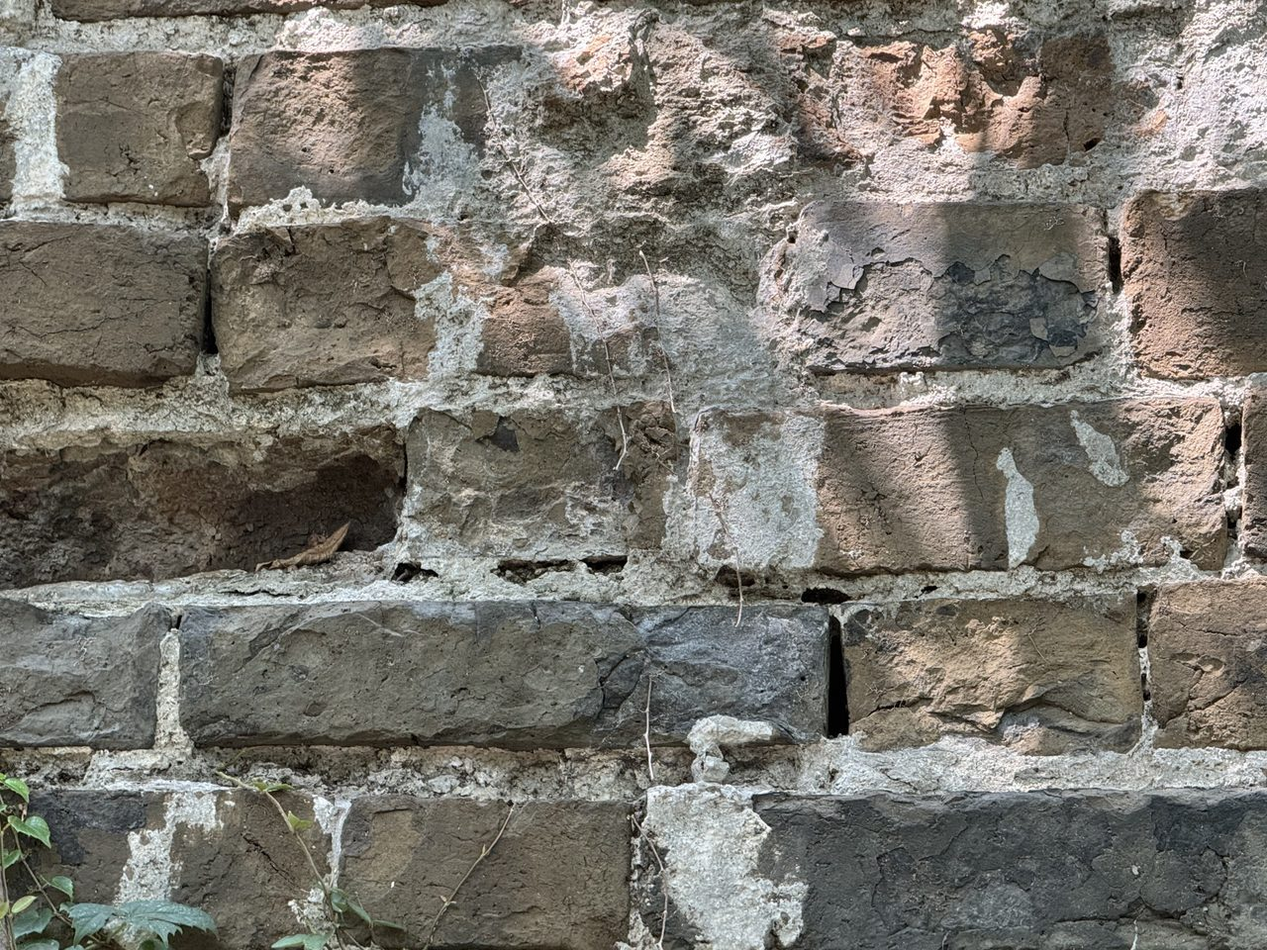brick_loss: (225, 424, 423, 590)
deadmood: (418, 799, 582, 950)
vegetation: (1, 768, 190, 950), (242, 775, 375, 950)
